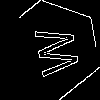W: (25, 25, 81, 79)
